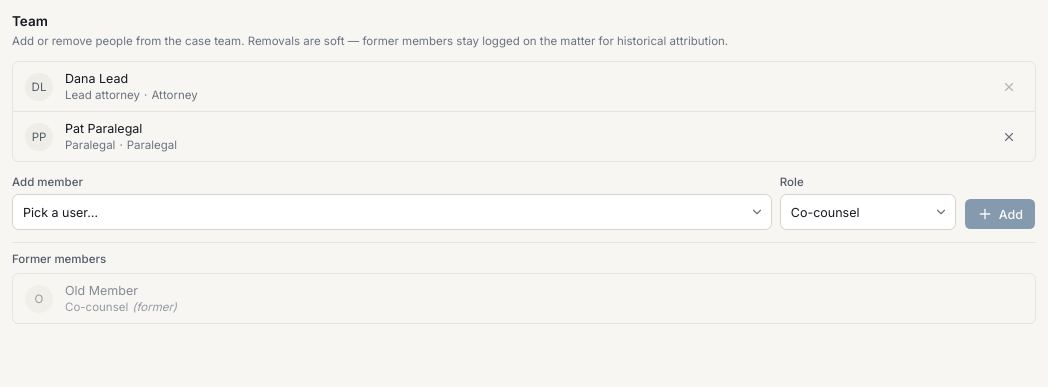
Test case: MatterTeamManagement › a thrown remove error becomes a banner
This screenshot has width=1048, height=387.
Click the button named "Remove Pat Paralegal".
click(1009, 136)  # box [995,122,1023,150]
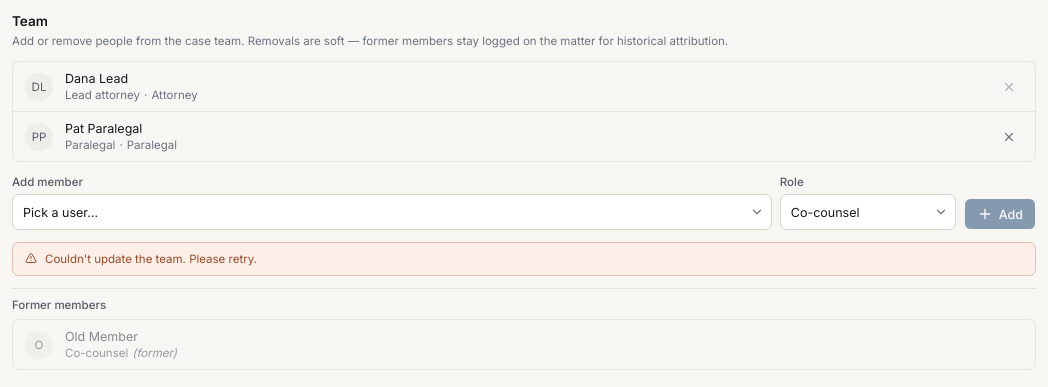
Expected: the text "Couldn't update the team. Please retry." is shown, [45,251,257,267]
